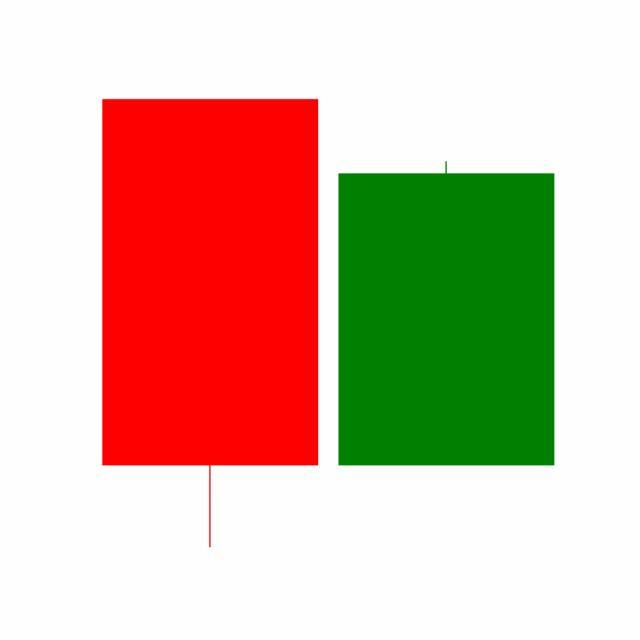Marubozu: (328, 158, 566, 469)
